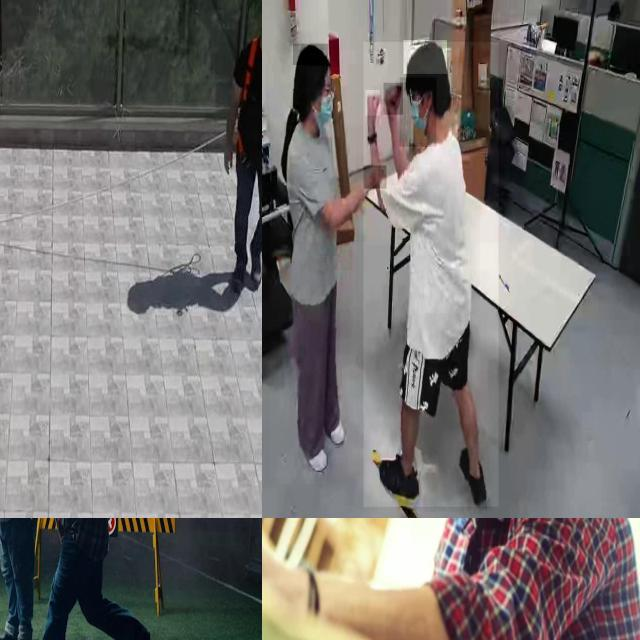face_mask: (399, 77, 436, 147), (306, 67, 339, 137)
hand_noglove: (384, 82, 404, 116), (363, 166, 387, 190), (366, 90, 380, 116)
head_nohelmet: (403, 40, 448, 75), (293, 44, 329, 66)
person: (363, 42, 499, 508), (299, 518, 640, 640), (270, 51, 356, 479)
shoes: (372, 448, 422, 503), (454, 441, 491, 509), (324, 400, 350, 455), (298, 425, 327, 473)
